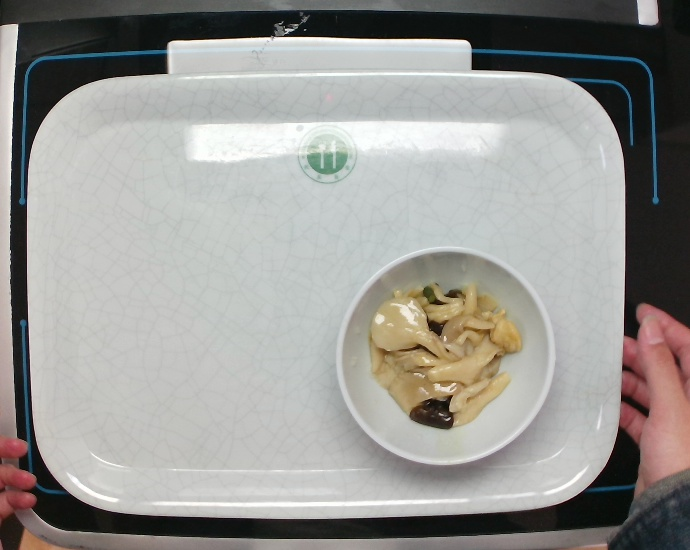JYsf-Fan_Wan: (326, 240, 562, 471)
